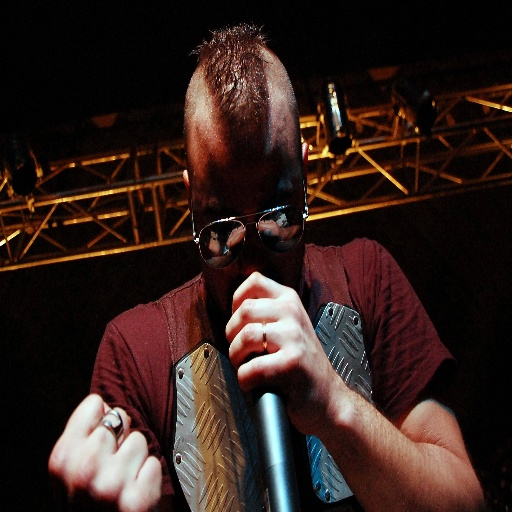hand: (224, 268, 340, 438), (41, 403, 153, 509)
